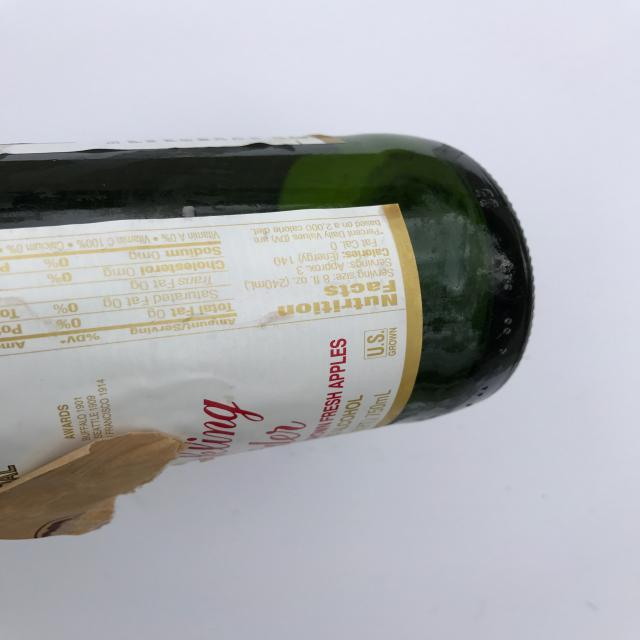glass: (2, 127, 536, 536)
